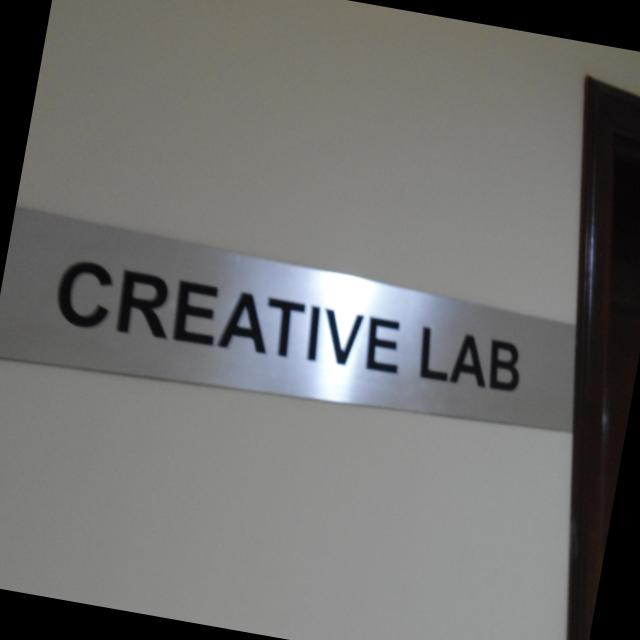door: (474, 72, 640, 640)
sign: (0, 210, 593, 460)
